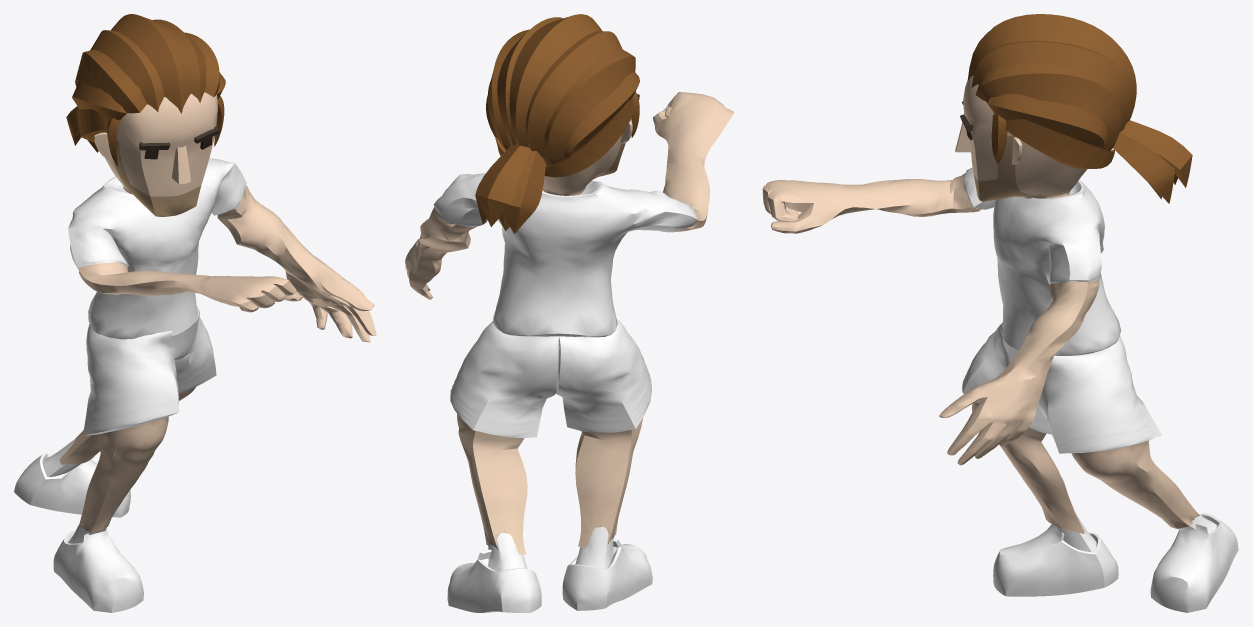
Rendered from av-tenista-clube.glb.
The picture shows the model from 3 angles, left to right: view 1: azimuth 30°, elevation 25°; view 2: azimuth 150°, elevation 25°; view 3: azimuth 270°, elevation 25°; orthographic projection. The views are drawn at different scales.
Visible parts, largest first — view 1: Beach_Legs; view 2: Beach_Legs; view 3: Beach_Legs.
Boxes of the visible parts, x1,y1,x2,y2 form: Beach_Legs: [14, 14, 376, 612]; Beach_Legs: [405, 14, 733, 612]; Beach_Legs: [762, 14, 1238, 612].
Bounding box in the file's own units: 0.7572 × 1.41 × 1.03.
Materials: 1 (1 with a texture image).
